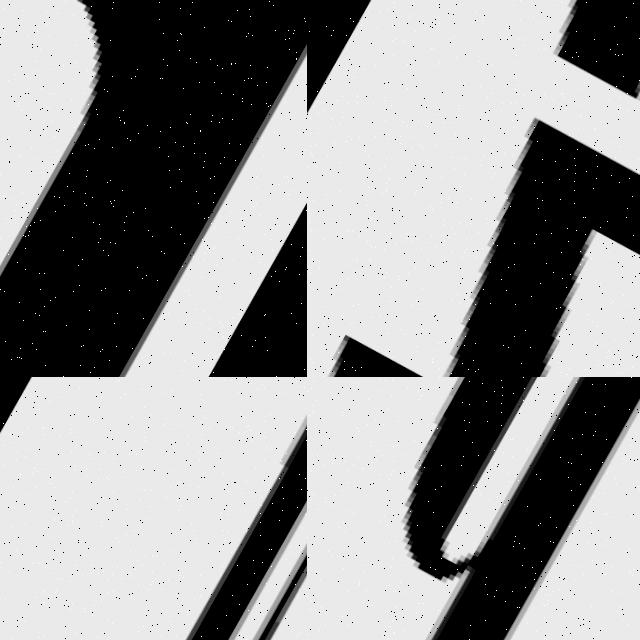1: (15, 377, 307, 640)
I: (307, 0, 640, 377)
N: (0, 0, 307, 377)
P: (398, 377, 640, 640)
